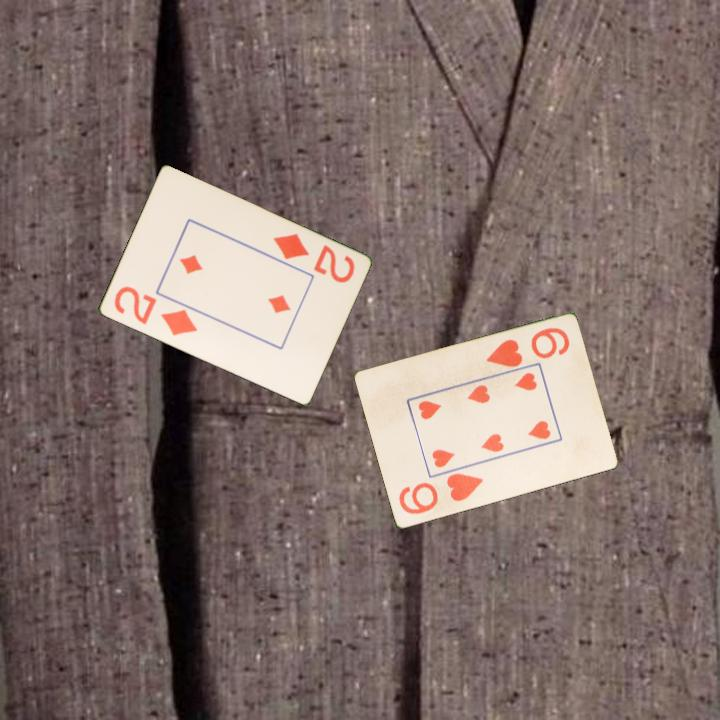2d: (110, 283, 200, 339), (269, 230, 357, 286)
6h: (395, 470, 486, 518), (482, 324, 572, 370)
